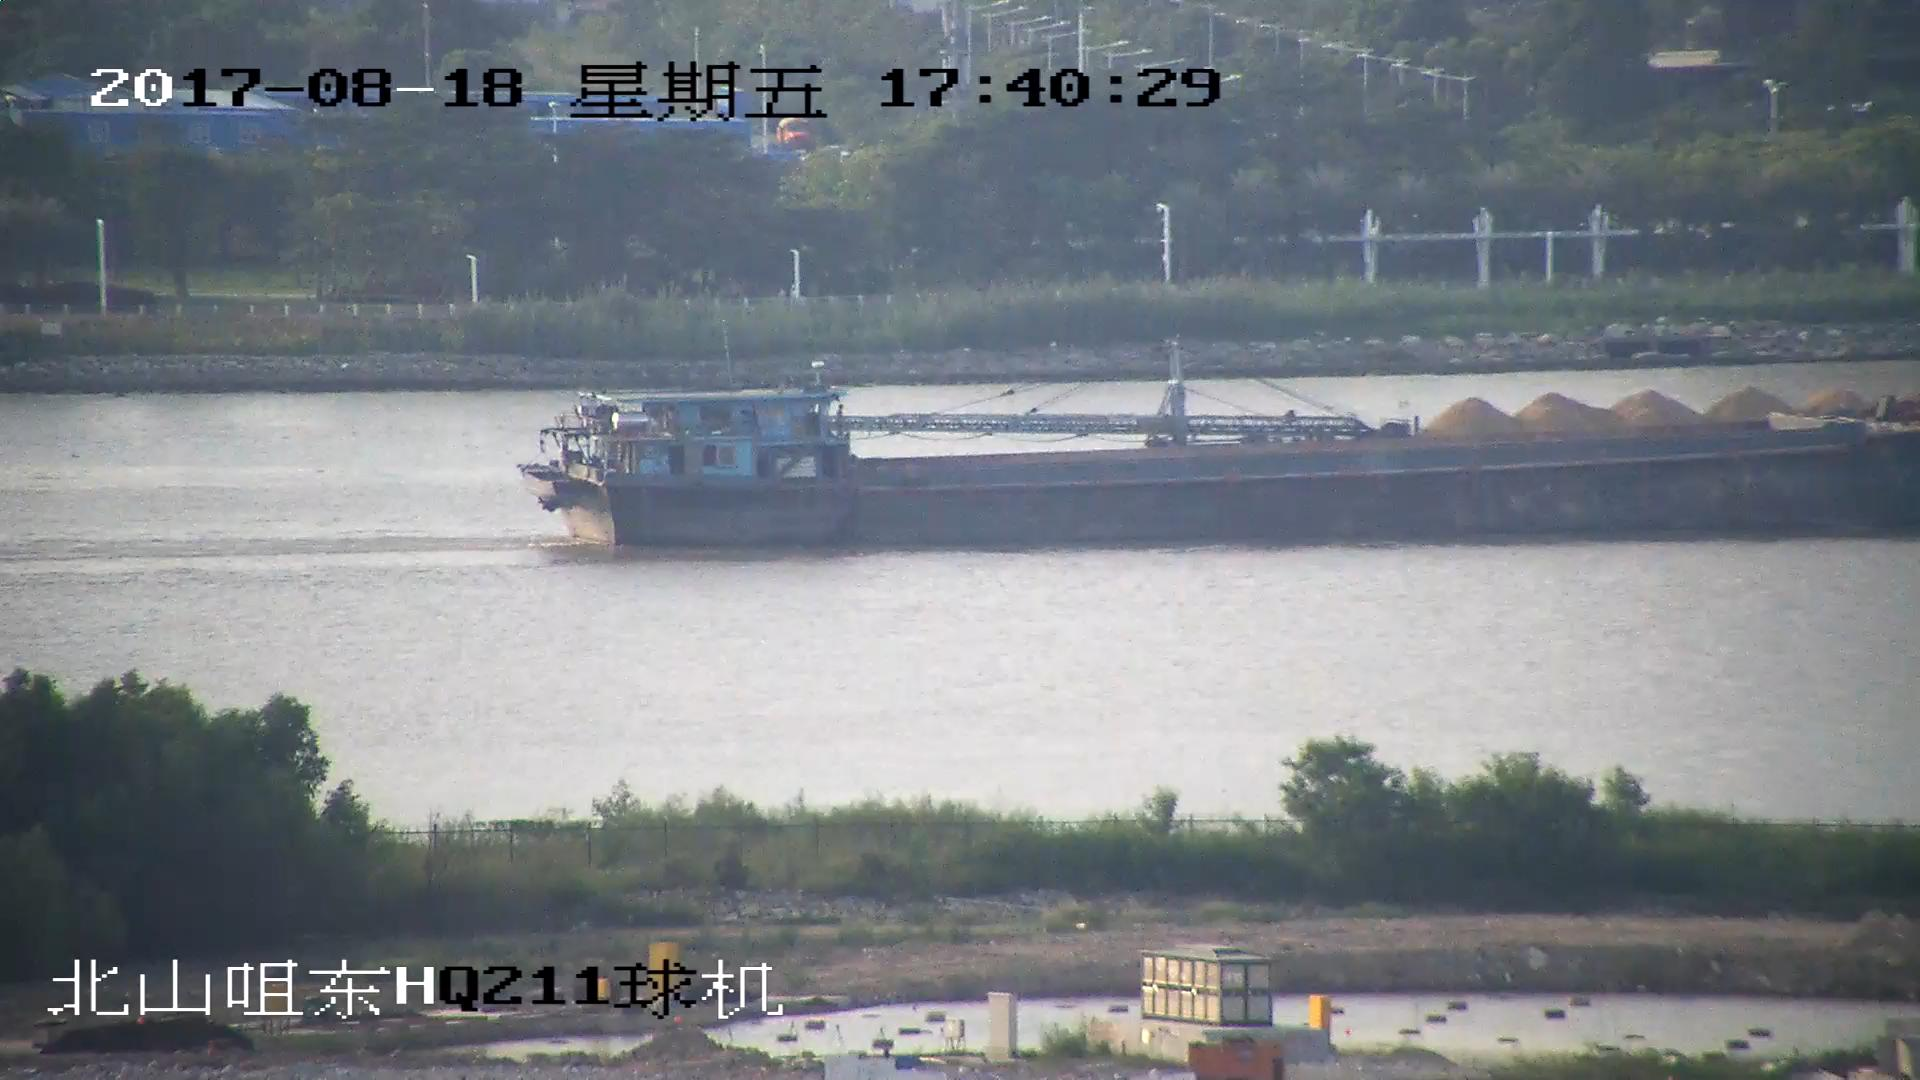bulk cargo carrier: (518, 386, 1919, 554)
ore carrier: (803, 354, 1920, 445)
